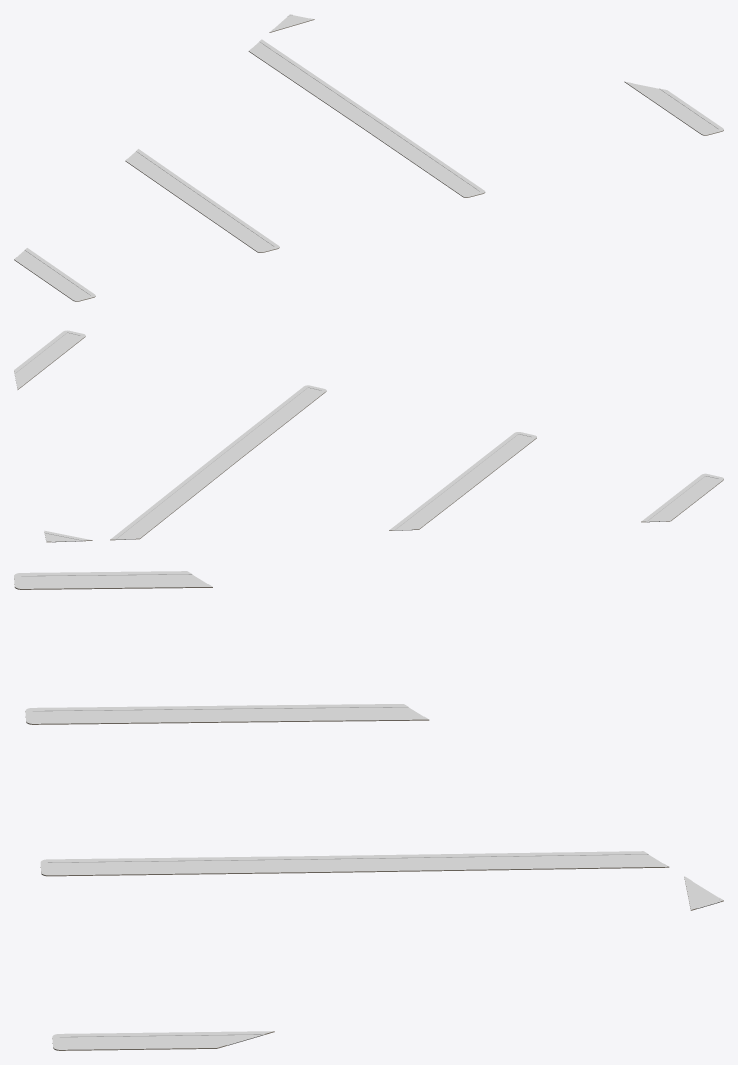
The picture shows the model from 3 angles, top to bottom: view 1: azimuth 30°, elevation 25°; view 2: azimuth 150°, elevation 25°; view 3: azimuth 270°, elevation 25°; orthographic projection. The views are drawn at different scales.
Visible parts, largest first — view 1: col_road, col_sidewalk, col_curb, sidewalk; view 2: col_road, col_sidewalk, col_curb, sidewalk; view 3: col_road, col_sidewalk, col_curb, sidewalk.
Boxes of the visible parts, x1,y1,x2,y2 form: col_road: (17, 15, 718, 298); col_sidewalk: (14, 14, 723, 300); col_curb: (16, 14, 718, 298); sidewalk: (14, 19, 723, 301); col_road: (14, 333, 718, 541); col_sidewalk: (14, 330, 723, 541); col_curb: (14, 332, 718, 542); sidewalk: (14, 336, 723, 542); col_road: (21, 574, 719, 1046); col_sidewalk: (14, 571, 723, 1049); col_curb: (20, 574, 720, 1046); sidewalk: (14, 579, 723, 1050).
Bounding box in the file's own units: 337 × 0.32 × 211.
